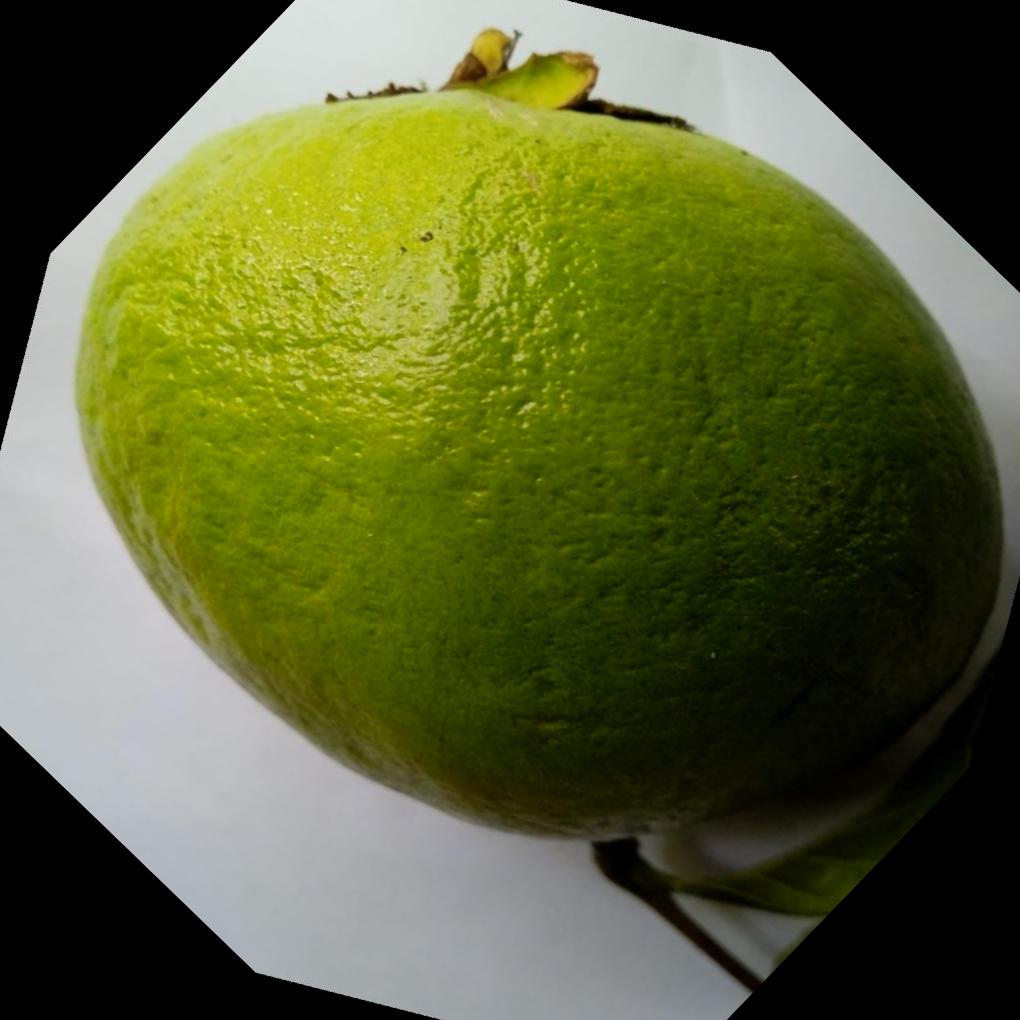FreshGuava: (63, 42, 1005, 918)
